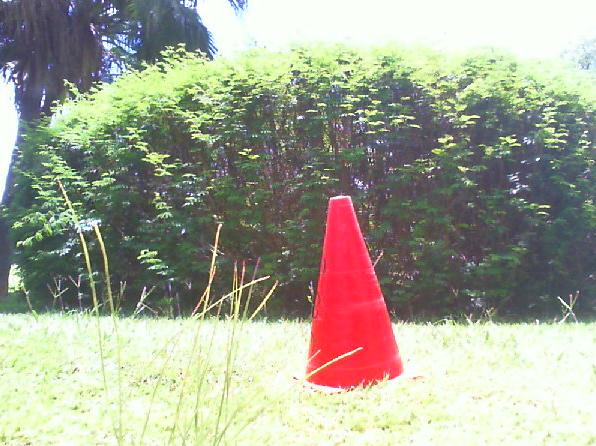0 cone: (292, 196, 423, 396)
